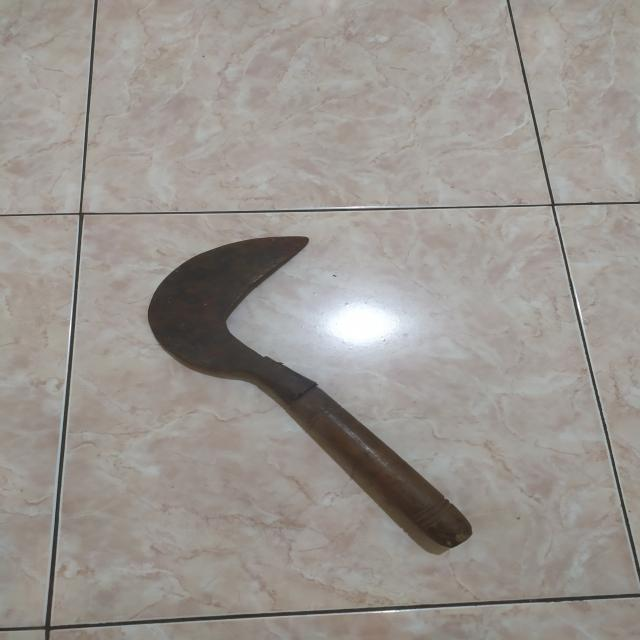Celurit: (148, 238, 475, 553)
